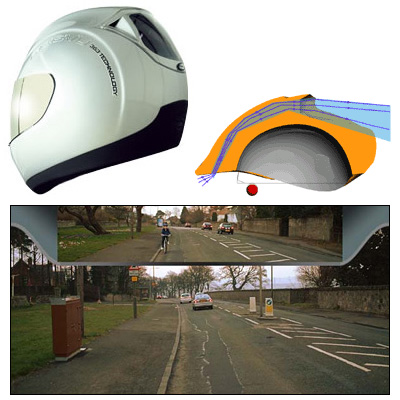helmet: (13, 12, 185, 167)
